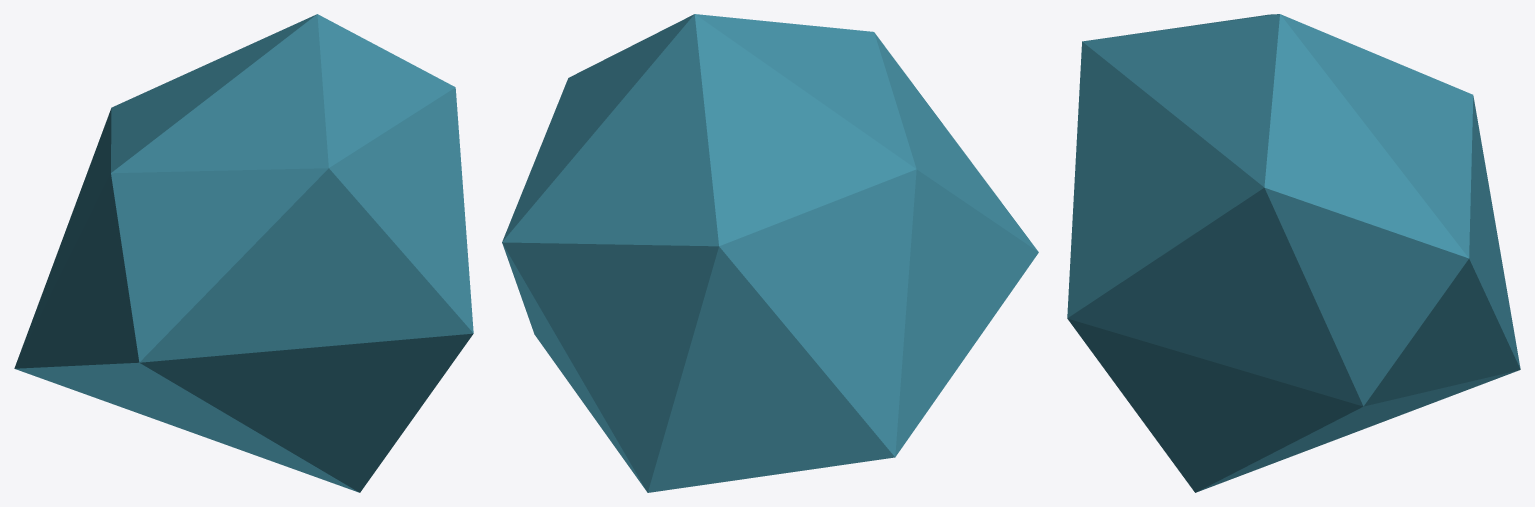
File: particle1.fbx
3 renders of one model, left to right at view 1: azimuth 30°, elevation 25°; view 2: azimuth 150°, elevation 25°; view 3: azimuth 270°, elevation 25°, orthographic. The views are drawn at different scales.
Visible parts, largest first — view 1: Cube; view 2: Cube; view 3: Cube.
Part boxes in pixels (box(x1,y1,x2,y2)): Cube: box(14, 14, 473, 492); Cube: box(502, 14, 1038, 492); Cube: box(1067, 14, 1520, 492).
Bounding box in the file's own units: 0.2696 × 0.299 × 0.2572.
Materials: 1 (1 with a texture image).
